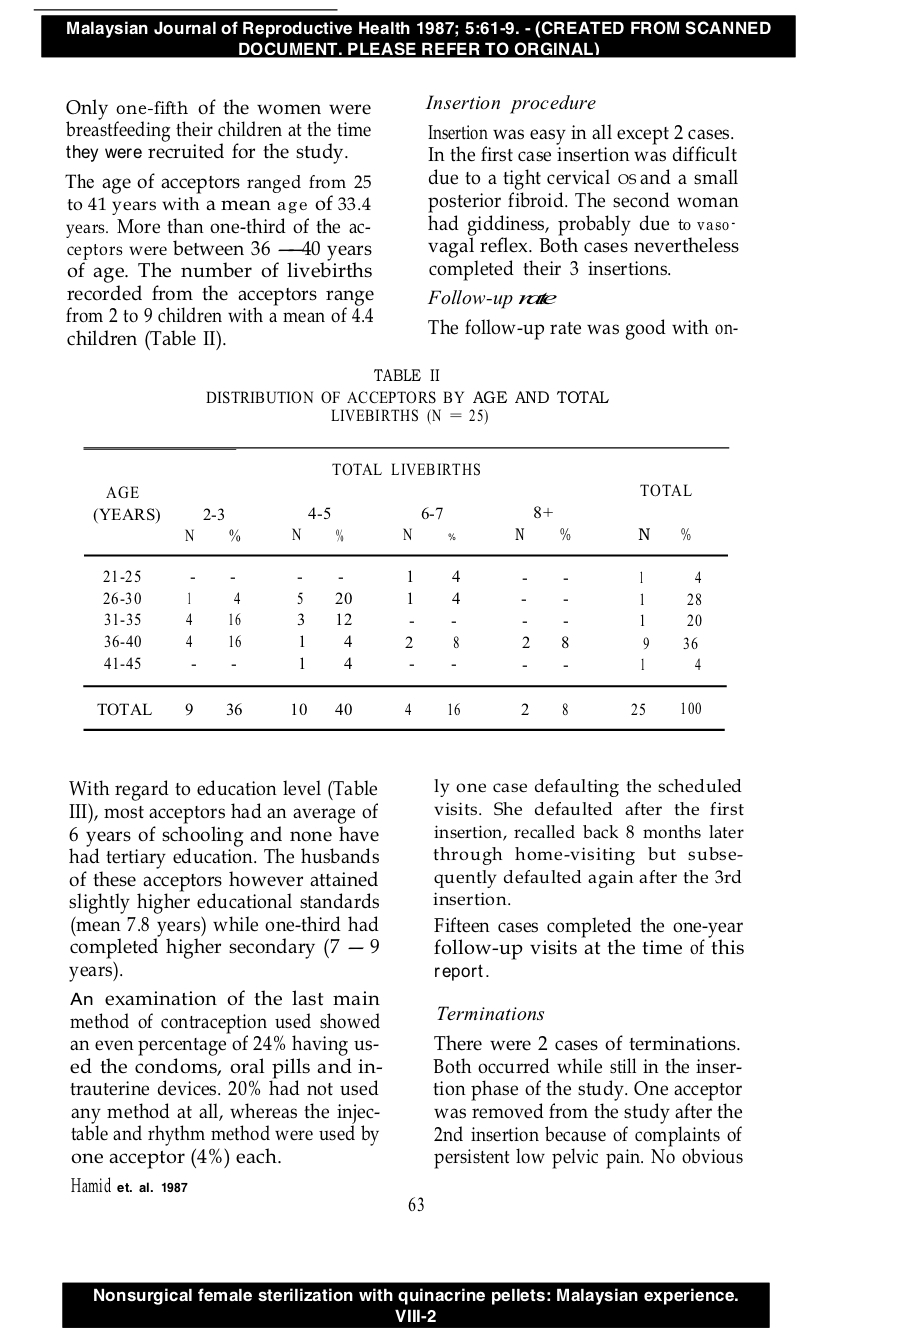Table: (83, 447, 729, 730)
figure: (62, 1280, 769, 1328), (41, 14, 795, 58), (33, 8, 337, 11)
